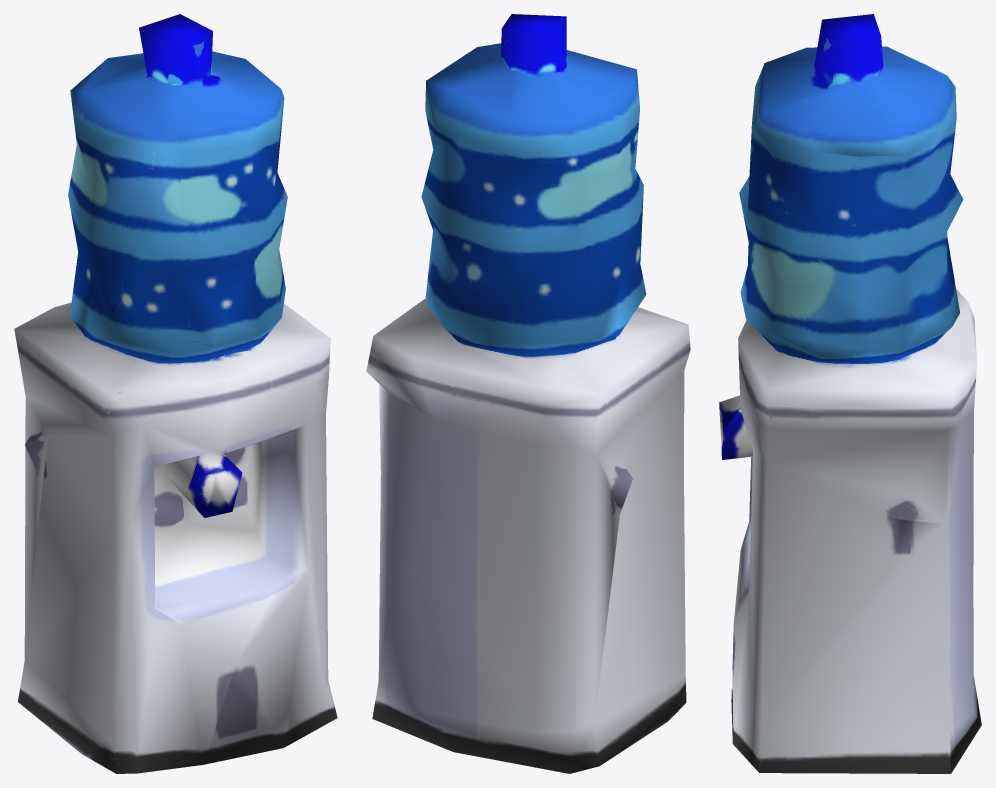
The model's file is water-cooler.glb.
The picture shows the model from 3 angles, left to right: view 1: azimuth 30°, elevation 25°; view 2: azimuth 150°, elevation 25°; view 3: azimuth 270°, elevation 25°; orthographic projection.
Visible parts, largest first — view 1: geometry_0.001; view 2: geometry_0.001; view 3: geometry_0.001.
Boxes of the visible parts, left/top/right/bottom form: geometry_0.001: left=14, top=14, right=337, bottom=773; geometry_0.001: left=366, top=14, right=690, bottom=773; geometry_0.001: left=719, top=14, right=981, bottom=773.
Bounding box in the file's own units: 0.3682 × 0.9937 × 0.3413.
Materials: 1 (1 with a texture image).
